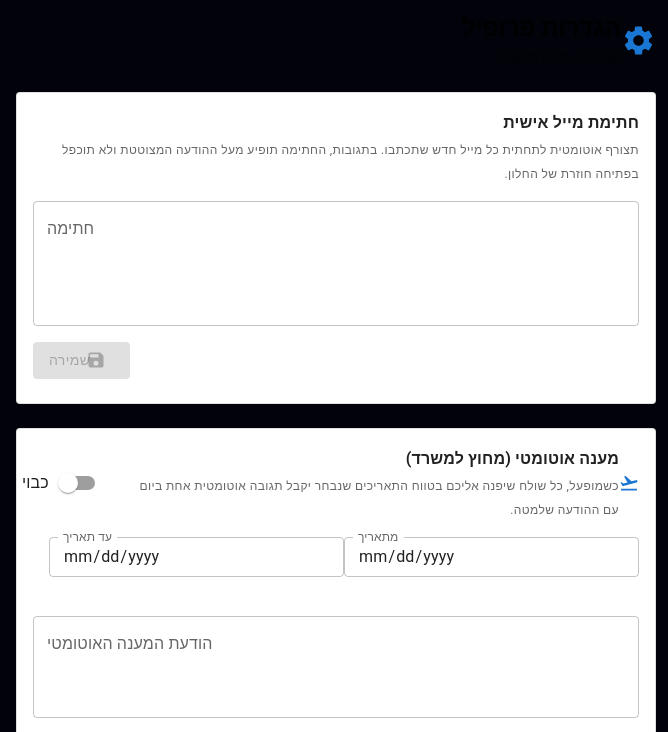
Test: ProfileSettings — signature editor › the save button starts disabled (no change yet) and enables once the signature is edited
Expected: the button with test id "save-signature-button" is disabled, [33, 342, 130, 378]
Type "חתימה חדשה" into the text box with test id "signature-textfield" at (336, 264), box [47, 218, 625, 310]
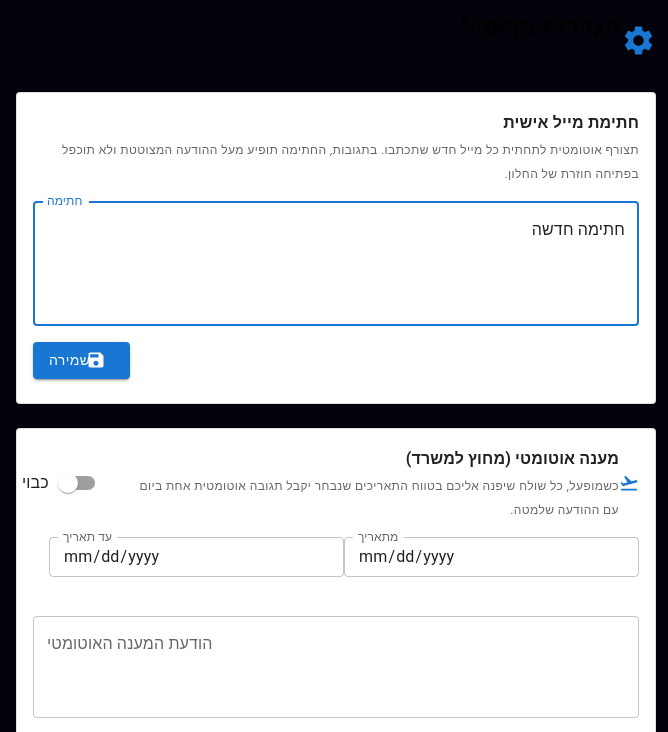
Now the button with test id "save-signature-button" is enabled, box [33, 342, 130, 378]
